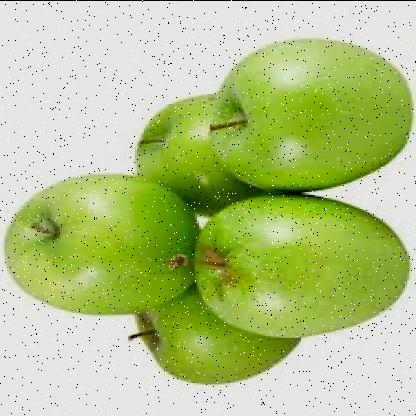apple: (208, 34, 412, 186), (210, 199, 410, 335), (2, 180, 194, 312), (131, 78, 283, 209), (120, 273, 296, 385)
